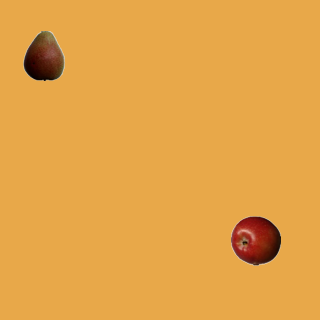Apple Braeburn: (230, 215, 280, 265)
Pear Forelle: (18, 30, 68, 80)
